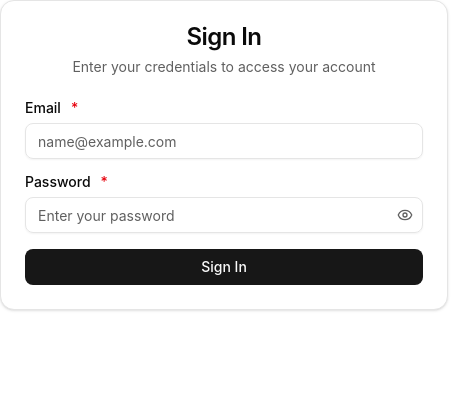
it: Login › shows timeout message when login times out
Type "test@example.com" into the field labelled "Email *".
click(224, 141); type("test@example.com")  # box [25, 123, 423, 159]
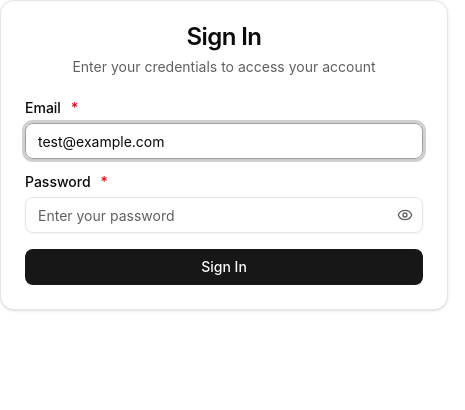
Type "Password123" into the password field labelled "Password *".
click(224, 215); type("Password123")  # box [25, 197, 423, 233]
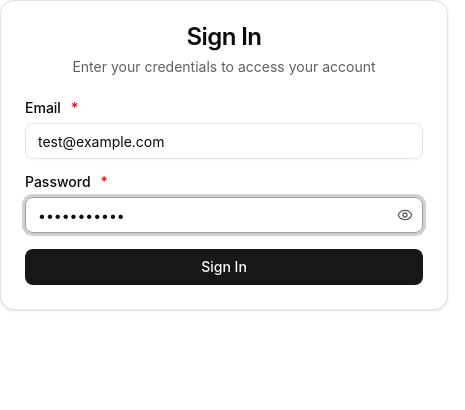
Click the button "Sign In".
click(224, 267)  # box [25, 249, 423, 285]
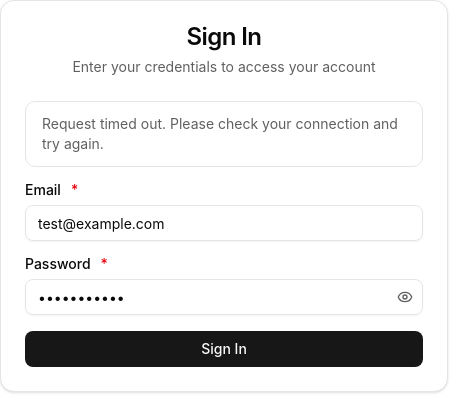
Now the text "Request timed out" is shown, box [42, 115, 398, 152]
